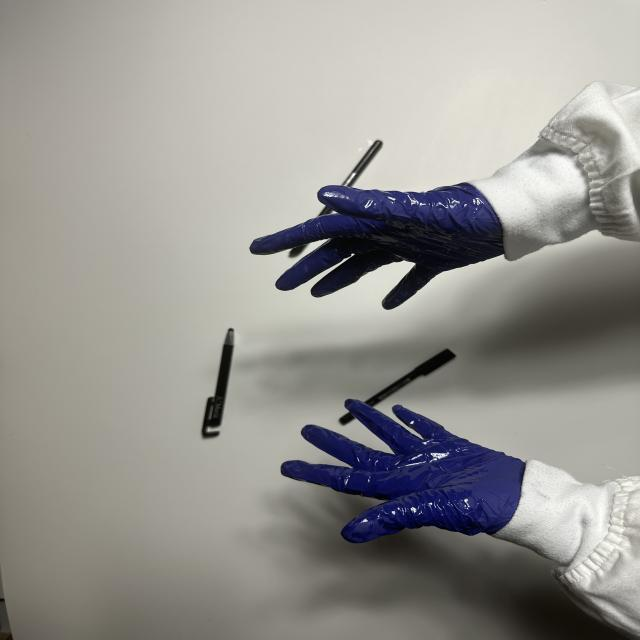gloves_contaminated: (281, 400, 524, 542), (250, 183, 504, 309)
